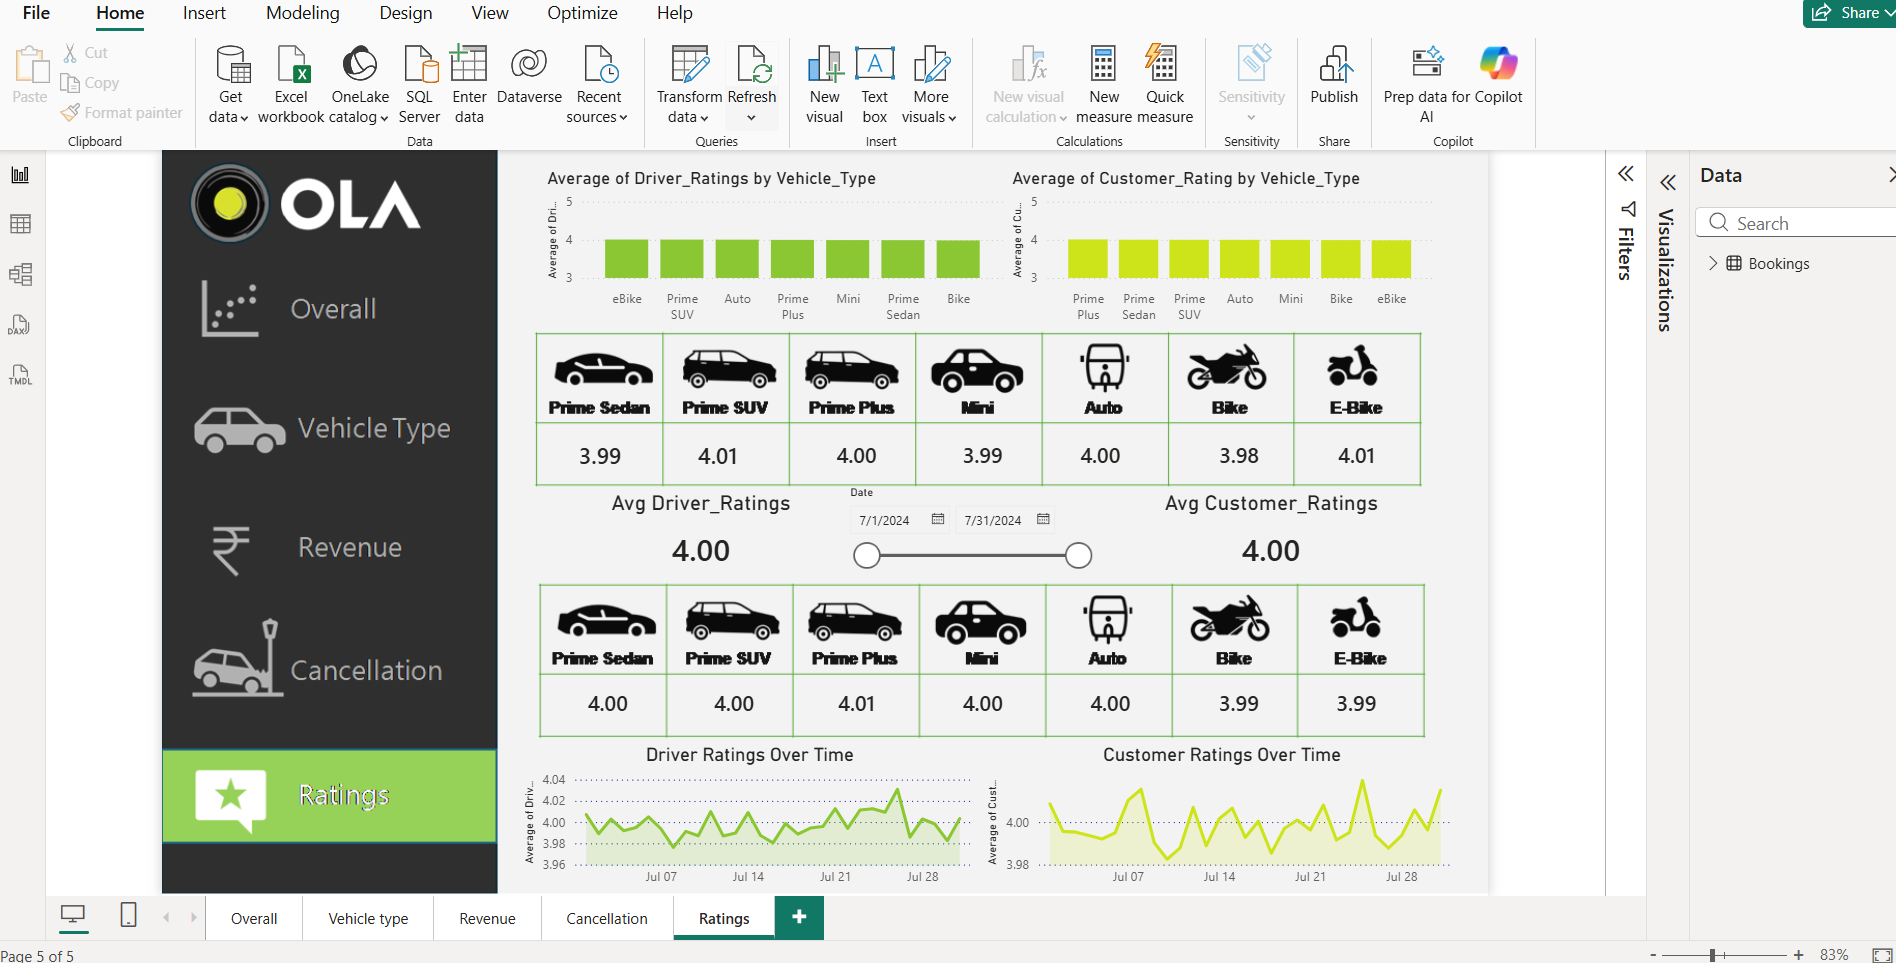

The page's visual inventory and layout, read from the dashboard file:
{"tool":"powerbi","page":{"name":"Ratings","canvas":[1280,720],"ordinal":4},"visuals":[{"type":"actionButton","box":[0,109.8,324.5,94.1],"z":0},{"type":"actionButton","box":[0,223.2,324.5,94.1],"z":1000},{"type":"actionButton","box":[0,334.2,324.5,94.1],"z":2000},{"type":"actionButton","box":[1.2,444,324.5,94.1],"z":3000},{"type":"slicer","fields":{"Values":["Bookings.Date"]},"box":[651.8,318.4,253.9,94.7],"z":4000},{"type":"cardVisual","title":"Success Value ₹","fields":{"Data":["Avg(Bookings.Driver_Ratings)"]},"box":[355.4,252.5,134.5,82.3],"z":5000},{"type":"cardVisual","title":"Success Value ₹","fields":{"Data":["Avg(Bookings.Driver_Ratings)"]},"box":[469.3,252.5,134.5,82.3],"z":6000},{"type":"cardVisual","title":"Success Value ₹","fields":{"Data":["Avg(Bookings.Driver_Ratings)"]},"box":[603.8,252.5,134.5,82.3],"z":7000},{"type":"cardVisual","title":"Success Value ₹","fields":{"Data":["Avg(Bookings.Driver_Ratings)"]},"box":[724.5,252.5,134.5,82.3],"z":8000},{"type":"cardVisual","title":"Success Value ₹","fields":{"Data":["Avg(Bookings.Driver_Ratings)"]},"box":[838.4,252.5,134.5,82.3],"z":9000},{"type":"cardVisual","title":"Success Value ₹","fields":{"Data":["Avg(Bookings.Driver_Ratings)"]},"box":[972.9,252.5,134.5,82.3],"z":10000},{"type":"cardVisual","title":"Success Value ₹","fields":{"Data":["Avg(Bookings.Driver_Ratings)"]},"box":[1085.4,252.5,134.5,82.3],"z":11000},{"type":"cardVisual","title":"Success Value ₹","fields":{"Data":["Avg(Bookings.Customer_Rating)"]},"box":[363.6,491.3,134.5,82.3],"z":12000},{"type":"cardVisual","title":"Success Value ₹","fields":{"Data":["Avg(Bookings.Customer_Rating)"]},"box":[484.4,491.3,134.5,82.3],"z":13000},{"type":"cardVisual","title":"Success Value ₹","fields":{"Data":["Avg(Bookings.Customer_Rating)"]},"box":[603.8,491.3,134.5,82.3],"z":14000},{"type":"cardVisual","title":"Success Value ₹","fields":{"Data":["Avg(Bookings.Customer_Rating)"]},"box":[724.5,491.3,134.5,82.3],"z":15000},{"type":"cardVisual","title":"Success Value ₹","fields":{"Data":["Avg(Bookings.Customer_Rating)"]},"box":[848,491.3,134.5,82.3],"z":16000},{"type":"cardVisual","title":"Success Value ₹","fields":{"Data":["Avg(Bookings.Customer_Rating)"]},"box":[972.9,491.3,134.5,82.3],"z":17000},{"type":"cardVisual","title":"Success Value ₹","fields":{"Data":["Avg(Bookings.Customer_Rating)"]},"box":[1085.4,491.3,134.5,82.3],"z":18000},{"type":"cardVisual","title":"Avg Driver_Ratings","fields":{"Data":["Avg(Bookings.Driver_Ratings)"]},"box":[422.6,328,196.2,89.2],"z":19000},{"type":"lineChart","title":"Driver Ratings Over Time","fields":{"Y":["Avg(Bookings.Driver_Ratings)"],"Category":["Bookings.Date"]},"box":[344.4,573.6,447.3,146.8],"z":20000},{"type":"lineChart","title":"Customer Ratings Over Time","fields":{"Category":["Bookings.Date"],"Y":["Avg(Bookings.Customer_Rating)"]},"box":[791.8,573.6,463.8,146.8],"z":21000},{"type":"cardVisual","title":"Avg Customer_Ratings","fields":{"Data":["Avg(Bookings.Customer_Rating)"]},"box":[960.6,328,220.9,89.2],"z":22000},{"type":"columnChart","fields":{"Category":["Bookings.Vehicle_Type"],"Y":["Avg(Bookings.Driver_Ratings)"]},"box":[366.4,16.5,450.1,157.8],"z":23000},{"type":"columnChart","fields":{"Category":["Bookings.Vehicle_Type"],"Y":["Avg(Bookings.Customer_Rating)"]},"box":[815.1,16.5,415.8,157.8],"z":24000}]}

Visuals, with their boxes on the page's 1280x720 design canvas (x1, y1, x2, y2). These are canvas units, not pixel positions in the 1896x963 screenshot, which may show the page scaled, cropped or inside an application window:
actionButton: [left=0, top=110, right=324, bottom=204]
actionButton: [left=0, top=223, right=324, bottom=317]
actionButton: [left=0, top=334, right=324, bottom=428]
actionButton: [left=1, top=444, right=326, bottom=538]
slicer - Bookings.Date: [left=652, top=318, right=906, bottom=413]
"Success Value ₹" cardVisual: [left=355, top=252, right=490, bottom=335]
"Success Value ₹" cardVisual: [left=469, top=252, right=604, bottom=335]
"Success Value ₹" cardVisual: [left=604, top=252, right=738, bottom=335]
"Success Value ₹" cardVisual: [left=724, top=252, right=859, bottom=335]
"Success Value ₹" cardVisual: [left=838, top=252, right=973, bottom=335]
"Success Value ₹" cardVisual: [left=973, top=252, right=1107, bottom=335]
"Success Value ₹" cardVisual: [left=1085, top=252, right=1220, bottom=335]
"Success Value ₹" cardVisual: [left=364, top=491, right=498, bottom=574]
"Success Value ₹" cardVisual: [left=484, top=491, right=619, bottom=574]
"Success Value ₹" cardVisual: [left=604, top=491, right=738, bottom=574]
"Success Value ₹" cardVisual: [left=724, top=491, right=859, bottom=574]
"Success Value ₹" cardVisual: [left=848, top=491, right=982, bottom=574]
"Success Value ₹" cardVisual: [left=973, top=491, right=1107, bottom=574]
"Success Value ₹" cardVisual: [left=1085, top=491, right=1220, bottom=574]
"Avg Driver_Ratings" cardVisual: [left=423, top=328, right=619, bottom=417]
"Driver Ratings Over Time" lineChart: [left=344, top=574, right=792, bottom=720]
"Customer Ratings Over Time" lineChart: [left=792, top=574, right=1256, bottom=720]
"Avg Customer_Ratings" cardVisual: [left=961, top=328, right=1182, bottom=417]
columnChart - Bookings.Vehicle_Type x Avg(Bookings.Driver_Ratings): [left=366, top=16, right=816, bottom=174]
columnChart - Bookings.Vehicle_Type x Avg(Bookings.Customer_Rating): [left=815, top=16, right=1231, bottom=174]
